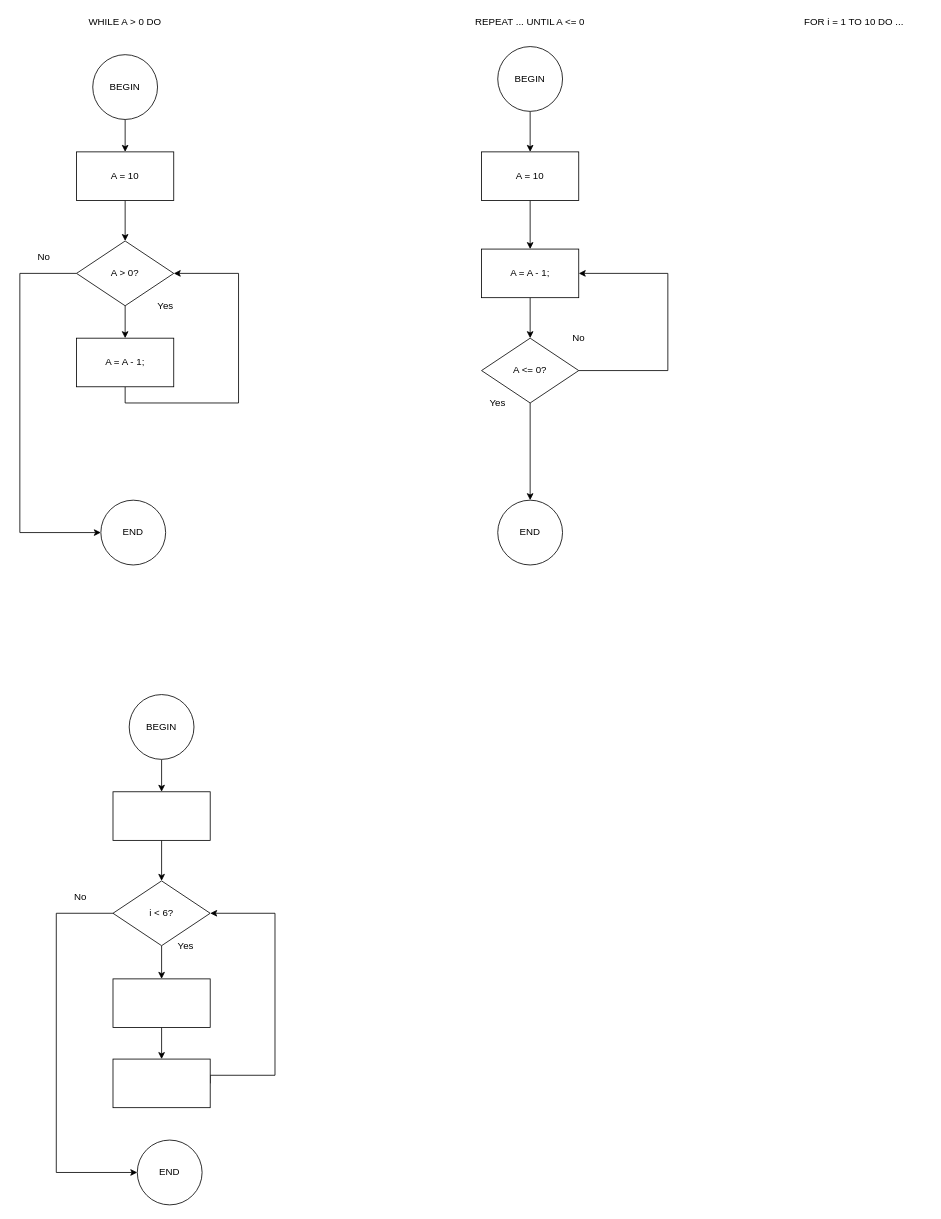
Image size: 941x1219. Some labels were removed from this diagram. Here are the shapes that lost their labels. From the top down, the centre of each, then its label:
At pixel 161 815: "i = 0".
At pixel 161 1002: "output(i);".
At pixel 161 1083: "i = i + 3;".
